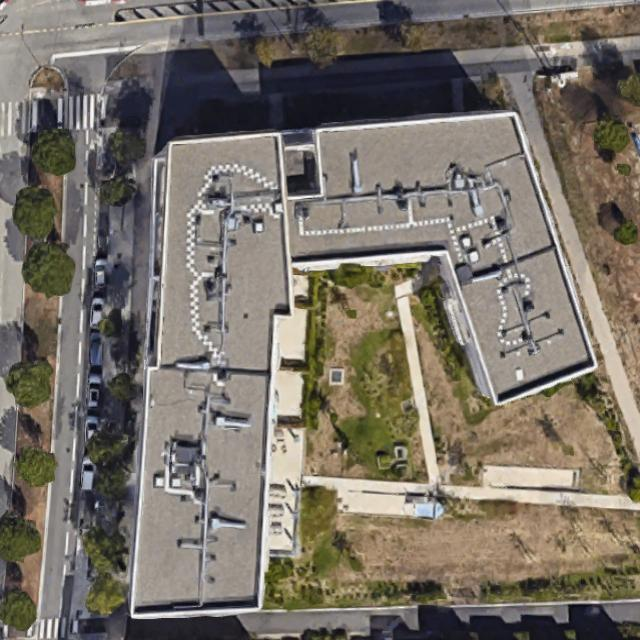immeuble: (108, 111, 608, 617)
